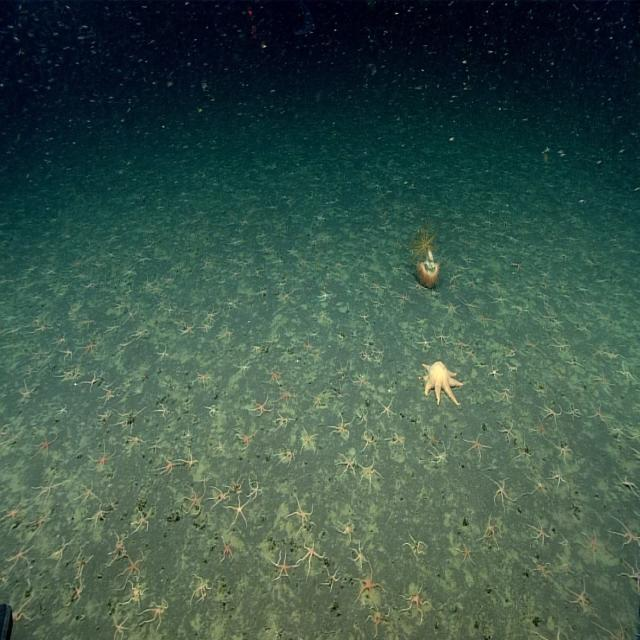brittle-stars: (41, 536, 73, 572), (402, 583, 429, 619), (355, 569, 382, 604), (74, 476, 105, 506), (72, 540, 96, 578), (612, 516, 640, 548), (11, 592, 36, 627), (300, 539, 325, 573), (35, 473, 64, 501), (143, 598, 169, 629), (489, 476, 513, 508), (368, 603, 392, 635), (291, 499, 315, 530), (568, 582, 591, 614), (182, 484, 204, 516), (122, 552, 144, 584), (32, 432, 58, 459), (619, 558, 640, 590), (230, 494, 251, 526), (273, 551, 295, 581), (580, 527, 602, 557), (90, 446, 115, 472), (8, 542, 33, 568), (54, 365, 82, 388), (192, 575, 214, 604), (1, 499, 24, 526), (482, 515, 502, 546), (331, 358, 352, 387), (126, 582, 149, 608), (404, 532, 426, 559), (617, 471, 639, 498), (359, 458, 380, 485), (528, 472, 549, 499), (360, 426, 381, 453), (597, 623, 629, 640), (133, 506, 153, 533), (465, 435, 487, 459), (528, 520, 548, 546), (590, 399, 609, 426), (250, 395, 272, 418), (110, 531, 128, 558), (90, 504, 110, 528), (32, 510, 52, 534), (338, 452, 357, 477), (458, 541, 476, 567), (209, 486, 231, 507), (332, 414, 352, 437), (119, 410, 142, 430), (276, 443, 295, 467), (540, 403, 560, 425), (515, 441, 534, 464), (111, 616, 129, 640), (531, 558, 551, 579), (551, 466, 569, 489), (323, 565, 340, 589), (236, 428, 256, 448), (301, 427, 317, 452), (277, 384, 296, 405), (160, 455, 179, 475), (495, 384, 515, 403), (352, 545, 368, 568), (71, 578, 85, 604), (19, 382, 37, 402), (593, 370, 611, 390), (532, 417, 548, 439), (220, 537, 234, 562), (196, 369, 215, 387), (338, 520, 354, 541), (83, 340, 101, 358), (352, 372, 369, 391), (127, 435, 146, 452), (499, 422, 515, 442), (434, 444, 449, 465), (181, 451, 198, 469), (238, 365, 256, 382), (379, 398, 395, 417), (618, 362, 634, 381), (118, 336, 133, 356), (248, 479, 262, 500), (313, 388, 327, 409), (153, 404, 170, 421), (556, 442, 572, 460), (552, 338, 570, 354), (389, 433, 405, 450), (461, 295, 478, 311), (236, 359, 252, 376), (276, 412, 292, 429), (267, 368, 282, 386), (490, 291, 508, 306), (454, 338, 470, 354), (86, 373, 101, 390), (102, 384, 116, 402), (437, 328, 451, 346), (126, 306, 140, 324), (566, 403, 580, 421), (205, 306, 220, 322), (218, 324, 233, 340), (81, 314, 96, 330), (446, 300, 460, 317), (180, 321, 195, 336), (478, 312, 493, 327), (132, 326, 148, 340), (61, 346, 75, 362), (205, 403, 219, 419), (97, 409, 113, 423), (357, 409, 369, 427), (159, 343, 170, 362), (485, 369, 498, 385), (418, 336, 432, 350), (106, 320, 120, 334), (372, 280, 386, 294), (396, 289, 410, 303), (512, 260, 526, 274), (200, 320, 215, 333), (504, 344, 517, 359), (358, 310, 371, 325), (426, 431, 438, 447), (490, 363, 502, 379), (124, 266, 138, 279), (178, 303, 190, 318), (304, 338, 316, 353), (144, 276, 154, 293), (322, 289, 336, 301), (182, 426, 193, 441), (250, 342, 261, 357), (361, 349, 372, 363), (58, 405, 69, 417), (376, 346, 386, 358), (288, 245, 298, 257)
